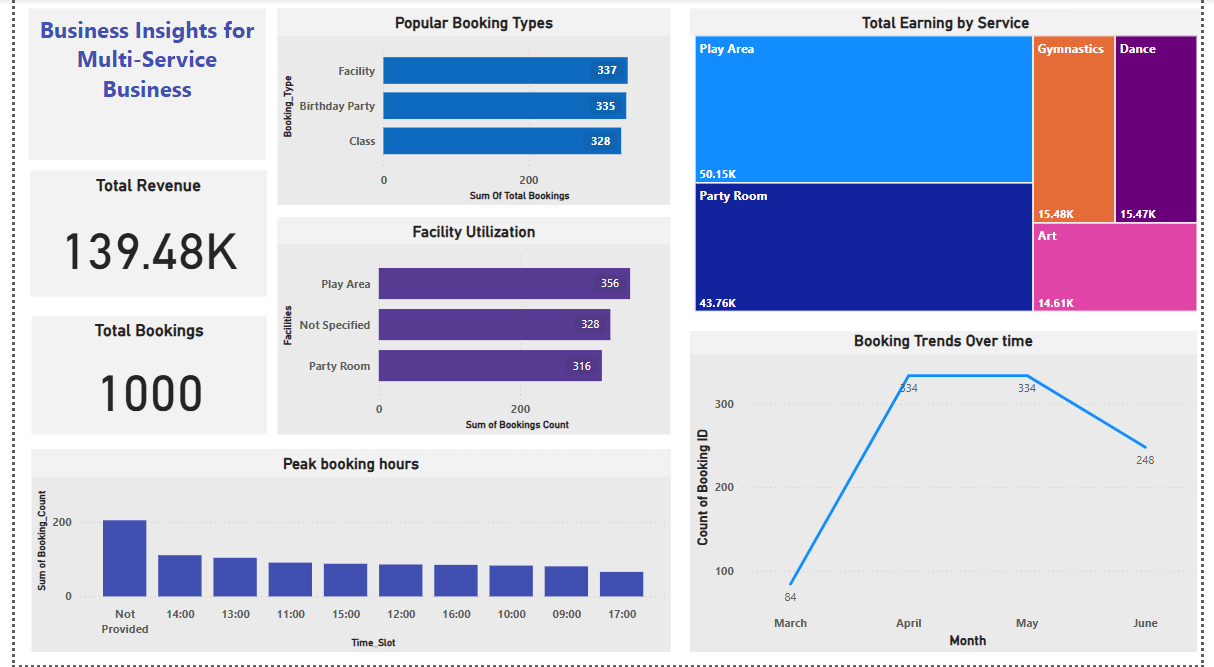

Layout of this report page (visuals, bound fields, positions):
{"tool":"powerbi","page":{"name":"Page 1","canvas":[1280,720],"ordinal":0},"visuals":[{"type":"barChart","title":"Total Revenue Per Booking Type","fields":{"Category":["TotalRevenuePerBook.Booking_Type"],"Y":["Sum(TotalRevenuePerBook.Total_Revenue)"]},"box":[283.4,11.3,424.2,212.1],"z":0},{"type":"columnChart","title":"Most Popular Facilities","fields":{"Y":["Sum(MostPopularFacilities.Booking_Count)"],"Category":["MostPopularFacilities.Facility"]},"box":[283.4,236.4,424.2,204],"z":1000},{"type":"treemap","title":"Total Earning by Service","fields":{"Group":["TopEarningServices.Service_Name"],"Values":["Sum(TopEarningServices.Total_Revenue)"]},"box":[722.2,11.3,558.6,325.5],"z":2000},{"type":"clusteredColumnChart","title":"Peak booking hours","fields":{"Category":["PeakBookingHours.Time_Slot"],"Y":["Sum(PeakBookingHours.Booking_Count)"]},"box":[283.4,471.2,424.2,233.2],"z":3000},{"type":"lineChart","title":"Monthly Revenue Trend","fields":{"Y":["Sum(MonthlyRevenueTrend.Monthly_Revenue)"],"Category":["MonthlyRevenueTrend.Month"]},"box":[733.5,340,547.3,335.2],"z":4000},{"type":"card","title":"Total Revenue","fields":{"Values":["cleaned_data.Total_Revenue"]},"box":[15.1,155,255.1,136.1],"z":5000},{"type":"card","title":"Total Bookings","fields":{"Values":["cleaned_data.Total_Bookings"]},"box":[15.1,306.1,253.2,134.2],"z":6000},{"type":"card","title":"Avg Booking Price","fields":{"Values":["cleaned_data.Avg_Booking_Price"]},"box":[13.2,453.5,255.1,120.9],"z":7000},{"type":"tableEx","fields":{"Values":["cleaned_data.Most_Popular_Booking_Type"]},"box":[13.2,587.7,253.2,117.2],"z":8000},{"type":"textbox","box":[14.6,11.3,255.8,129.5],"z":8001}]}

Visuals, with their boxes in screenshot pixels (x1, y1, x2, y2), scaled from the page's 1280x720 canvas onto the 1214x667 screenshot:
"Total Revenue Per Booking Type" barChart: BBox(269, 10, 671, 207)
"Most Popular Facilities" columnChart: BBox(269, 219, 671, 408)
"Total Earning by Service" treemap: BBox(685, 10, 1213, 312)
"Peak booking hours" clusteredColumnChart: BBox(269, 437, 671, 653)
"Monthly Revenue Trend" lineChart: BBox(696, 315, 1213, 625)
"Total Revenue" card: BBox(14, 144, 256, 270)
"Total Bookings" card: BBox(14, 284, 254, 408)
"Avg Booking Price" card: BBox(13, 420, 254, 532)
tableEx - cleaned_data.Most_Popular_Booking_Type: BBox(13, 544, 253, 653)
textbox: BBox(14, 10, 256, 130)
